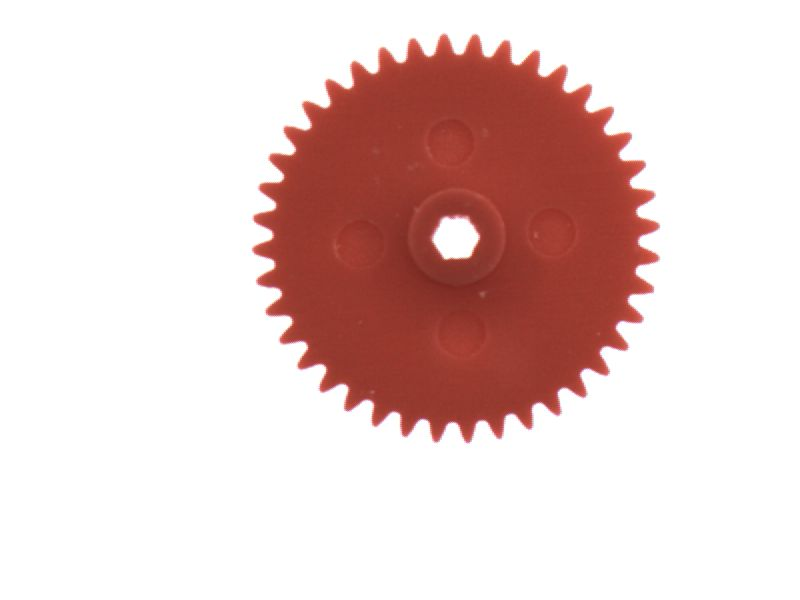good_product: (244, 23, 670, 452)
